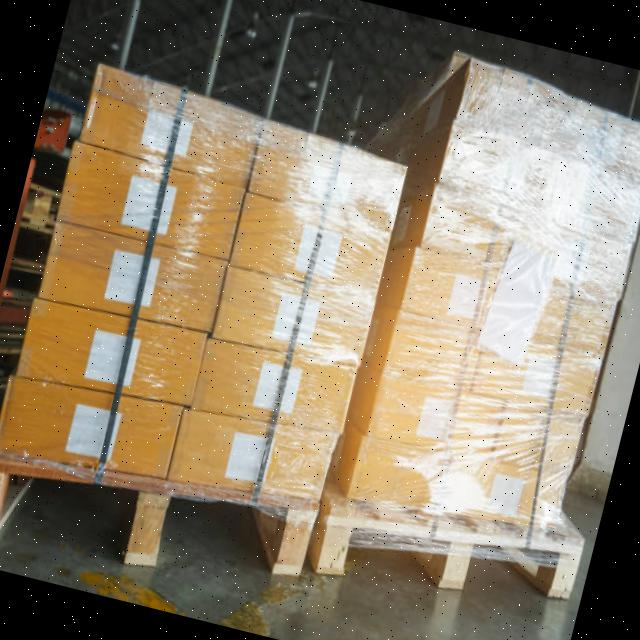Wooden-Pallets: (0, 455, 586, 615), (0, 451, 323, 586), (300, 504, 594, 621)
